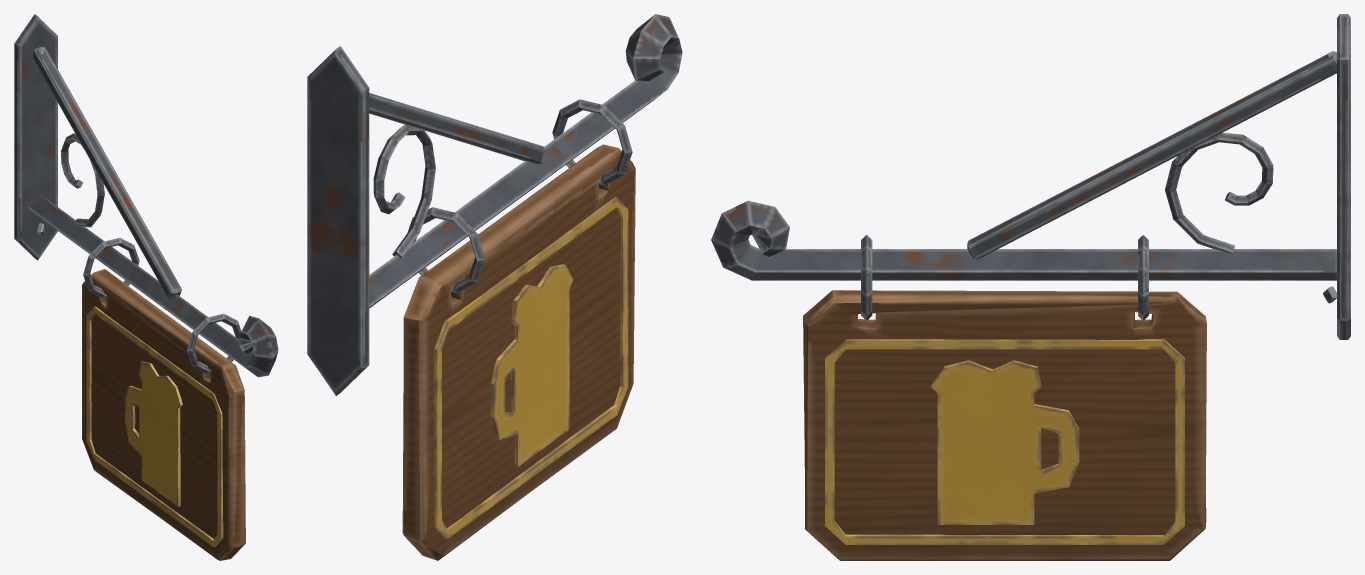
The model's file is tavern_sign.glb.
3 views of the same model, side by side, from view 1: azimuth 30°, elevation 25°; view 2: azimuth 150°, elevation 25°; view 3: azimuth 270°, elevation 25° (orthographic). The views are drawn at different scales.
Parts seen in each view (by area): view 1: rings, tavern_sign_static; view 2: rings, tavern_sign_static; view 3: rings, tavern_sign_static.
Part boxes in pixels (left/top/right/bottom): rings: left=82, top=237, right=245, bottom=560; tavern_sign_static: left=14, top=14, right=278, bottom=377; rings: left=402, top=99, right=635, bottom=560; tavern_sign_static: left=307, top=14, right=682, bottom=395; rings: left=803, top=234, right=1206, bottom=560; tavern_sign_static: left=711, top=14, right=1350, bottom=339.
Size of what is drawn, in the model's own units: 0.126 by 0.8683 by 0.9249.
Materials: 3 (3 with a texture image).
